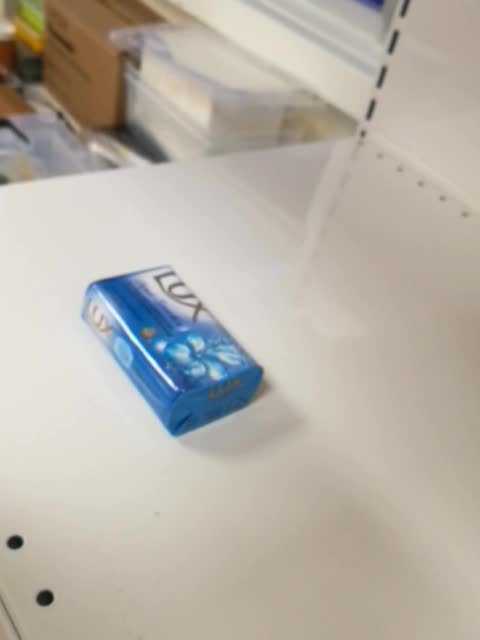soap: (79, 264, 266, 439)
